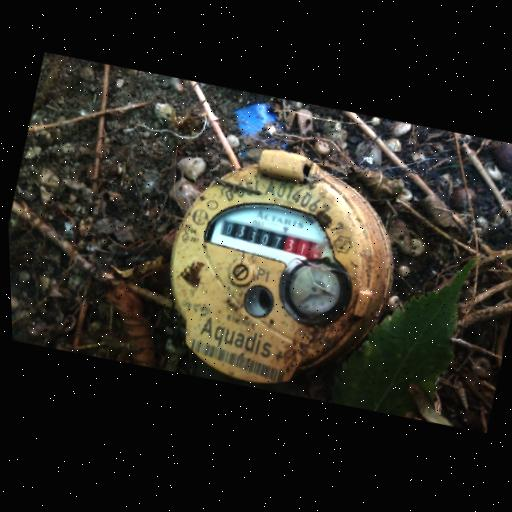0: (222, 220, 235, 238), (258, 228, 271, 246)
1: (297, 239, 310, 257)
3: (282, 235, 297, 254), (246, 227, 259, 244), (235, 223, 247, 241)
7: (271, 232, 283, 250)
border_water_meter_number: (216, 212, 327, 270)
